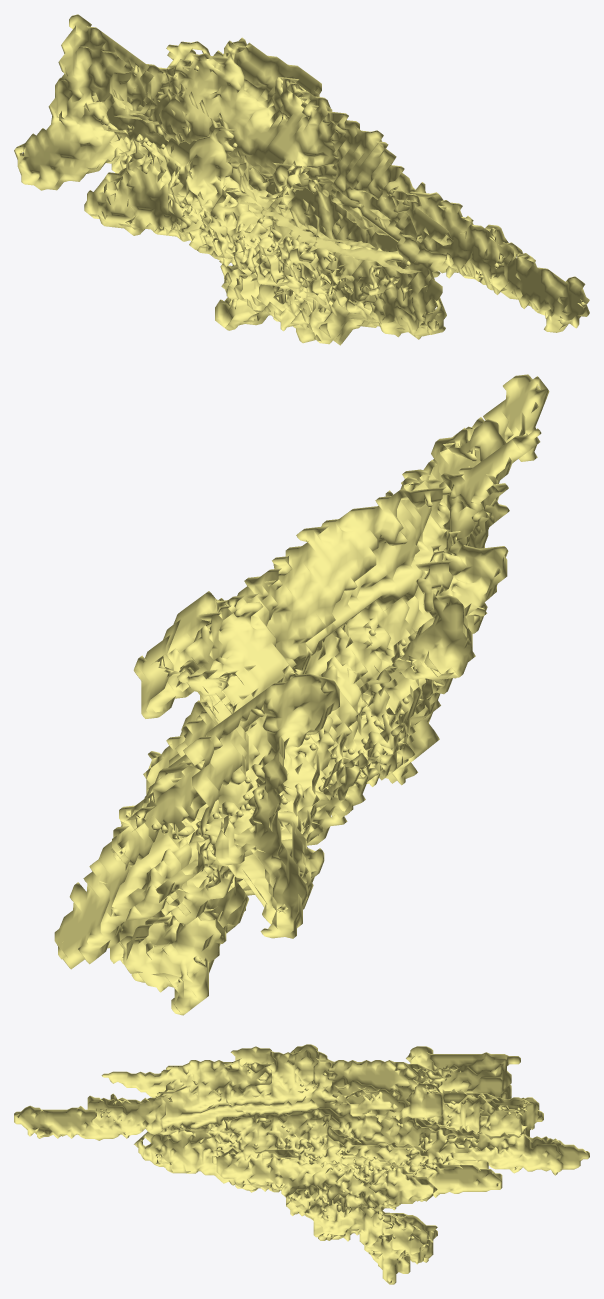
Rendered from osteocyte_83.glb.
The picture shows the model from 3 angles, top to bottom: view 1: azimuth 30°, elevation 25°; view 2: azimuth 150°, elevation 25°; view 3: azimuth 270°, elevation 25°; orthographic projection. The views are drawn at different scales.
Parts seen in each view (by area): view 1: osteocyte_83; view 2: osteocyte_83; view 3: osteocyte_83.
Boxes of the visible parts, bbox=[...] form: osteocyte_83: bbox=[14, 14, 589, 345]; osteocyte_83: bbox=[54, 374, 549, 1015]; osteocyte_83: bbox=[14, 1044, 589, 1284].
Size of the model in its own units: 17.33 by 21.18 by 60.18.
